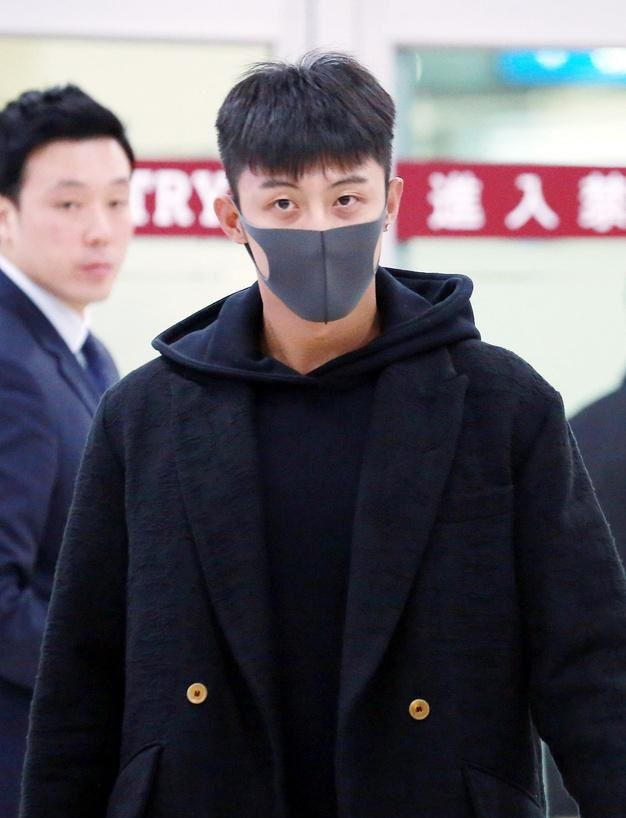face: (17, 131, 130, 303)
face_mask: (239, 117, 385, 321)
